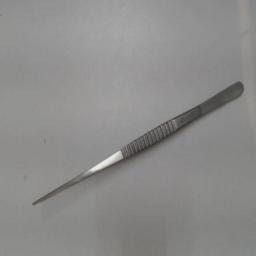DeBakey Dissector: (30, 64, 256, 214)
